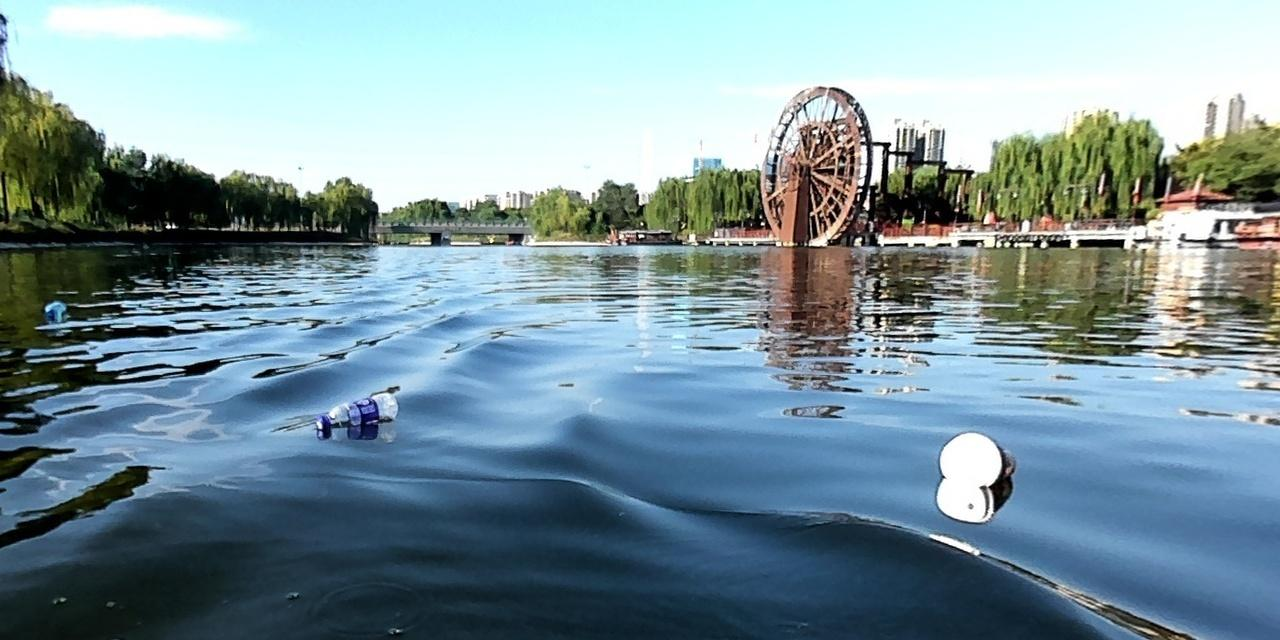bottle: (935, 428, 1021, 487), (309, 388, 405, 435), (41, 298, 67, 323)
